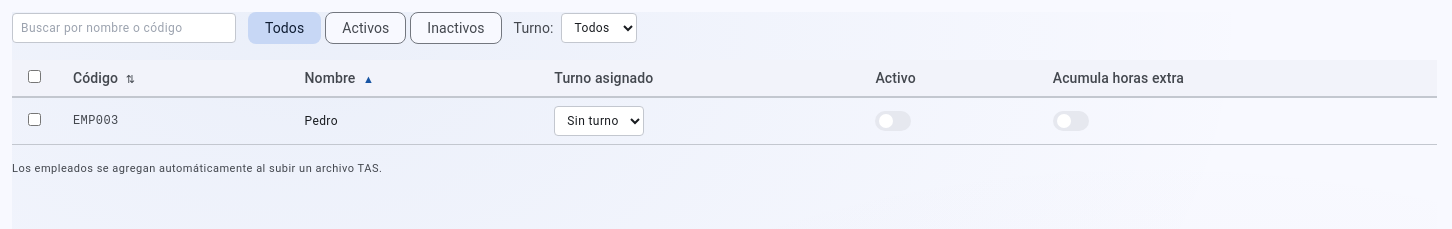
EmployeesTab active toggle › shows reactivation note when activating employee with no shift
Expected: the text "Pedro" is shown, [288,97,538,144]
What coordinates should you click on to do the following:
click the switch named "Activar empleado"
I would click on:
 (894, 120)
Its box is [876,110,912,130].
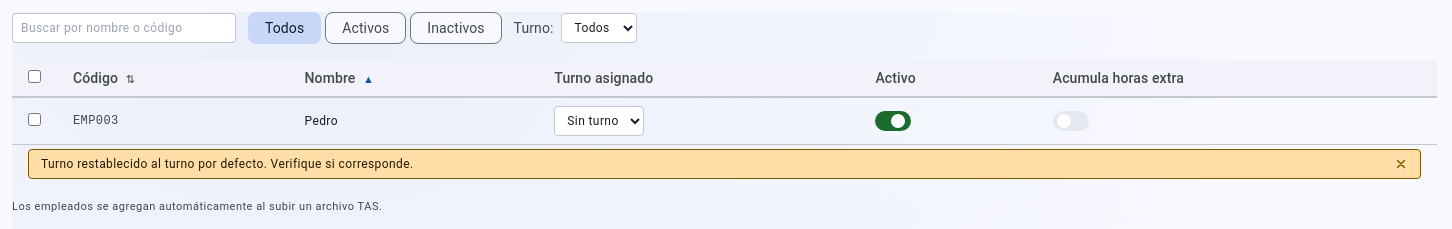
Result: the text "Turno restablecido al turno por defecto" is shown at [41,157,414,171]
